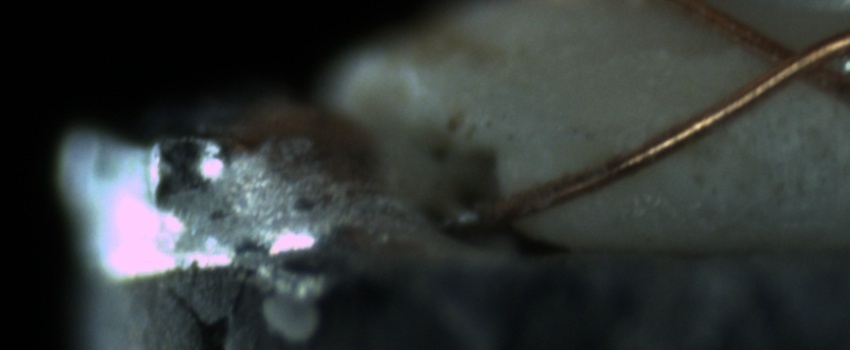CL: (743, 23, 845, 96)
